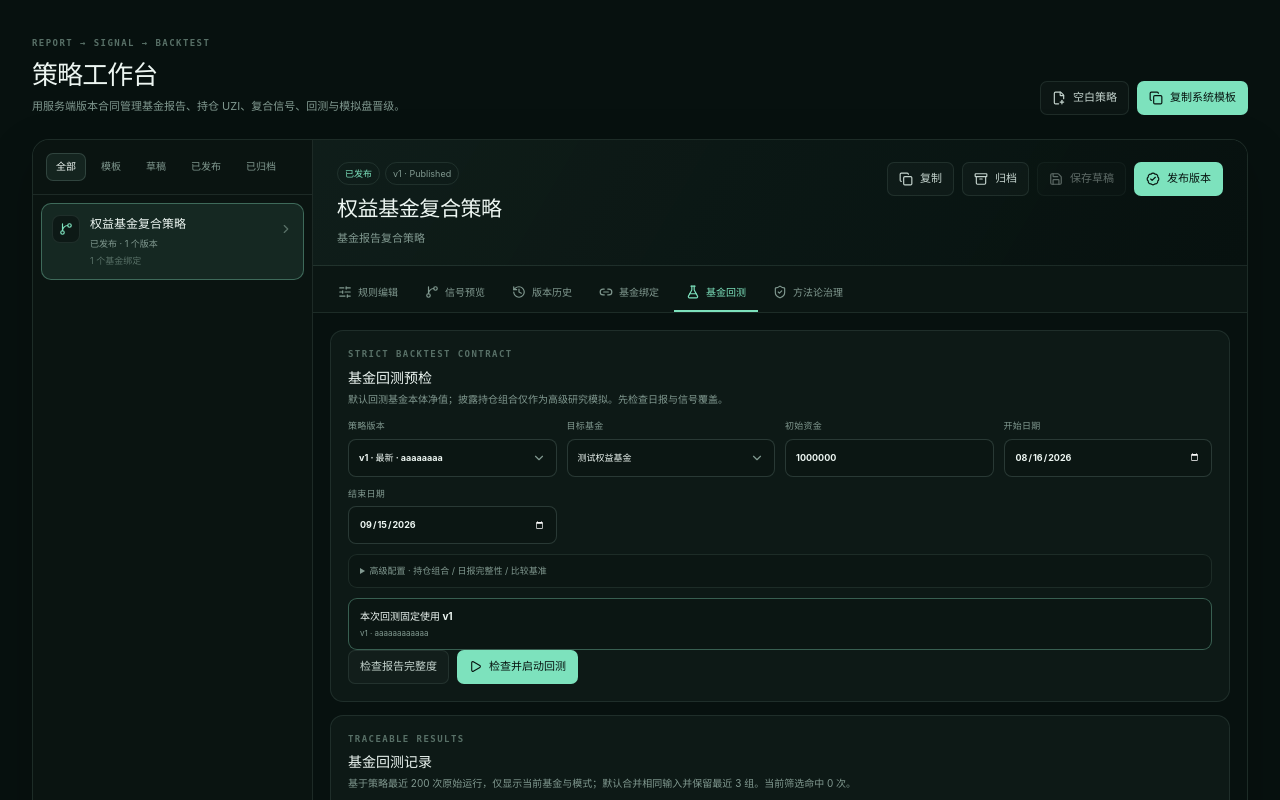
Scenario: Strategies › does not launch backtests when the readonly market data preflight finds gaps
Click the button "检查并启动回测".
click(518, 667)  # box [457,650,578,684]
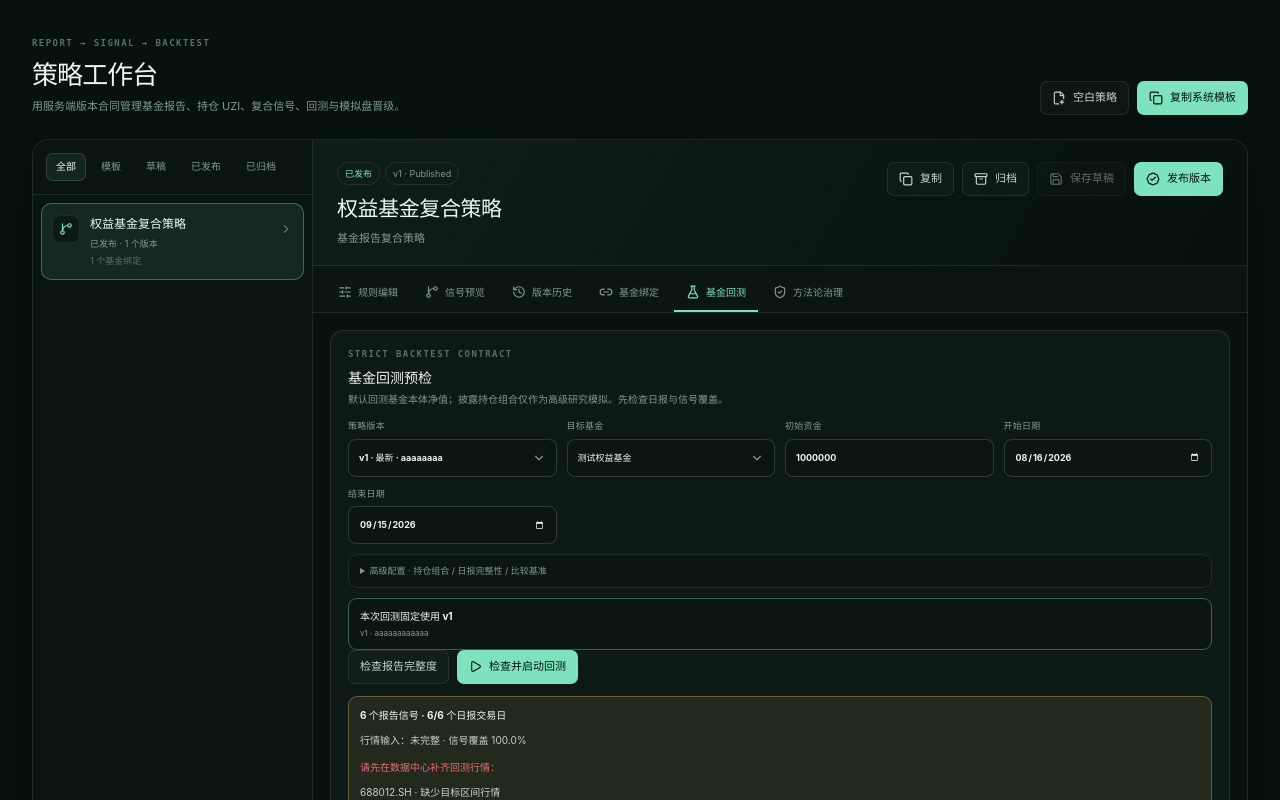
Now the text "688012.SH · 缺少目标区间行情" is shown, box [360,786,500,798]
